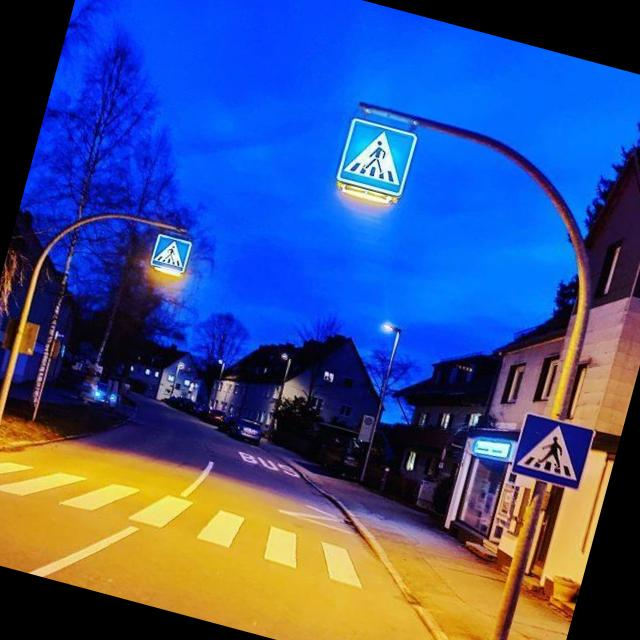crosswalk-sign: (332, 115, 419, 204), (509, 411, 595, 492), (149, 232, 194, 277)
